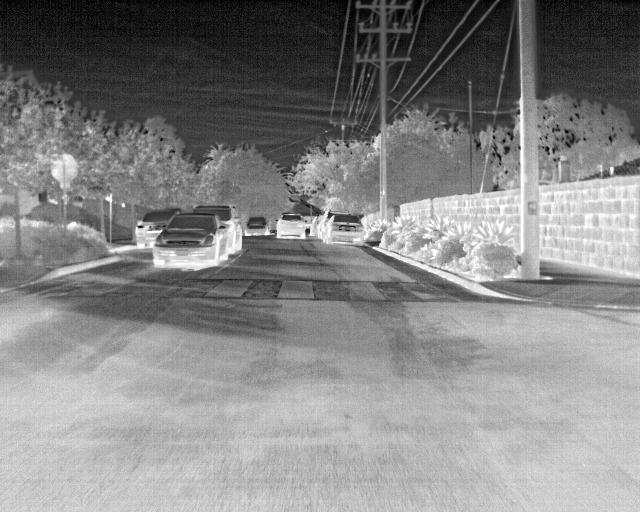car: (152, 213, 227, 270), (192, 204, 243, 253), (133, 209, 180, 247), (323, 214, 365, 248), (275, 211, 306, 238), (245, 216, 269, 237), (313, 216, 330, 236)
